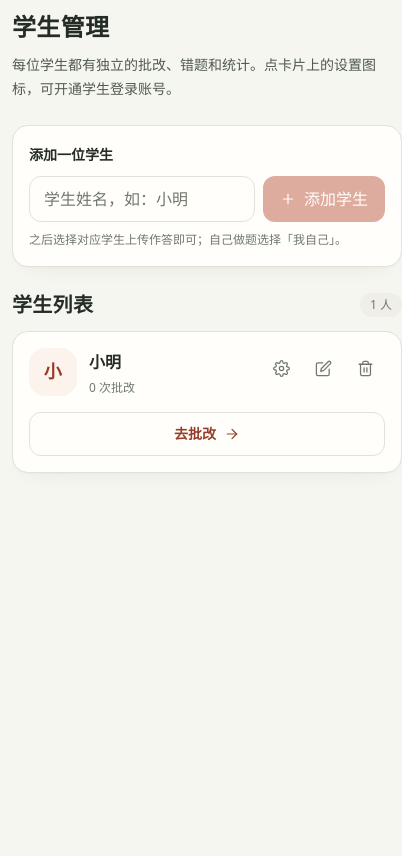
Test case: uses real labels for student account credentials
Click the button titled "登录账号管理". click: [281, 368]
box: x1=261 y1=348 x2=301 y2=388
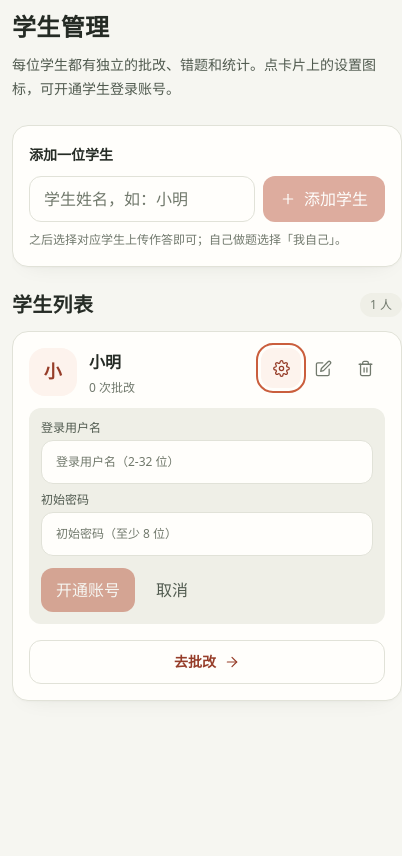
expect the field labelled "登录用户名" is shown: met, box x1=41 y1=440 x2=373 y2=484
expect the password field labelled "初始密码" is shown: met, box x1=41 y1=512 x2=373 y2=556
